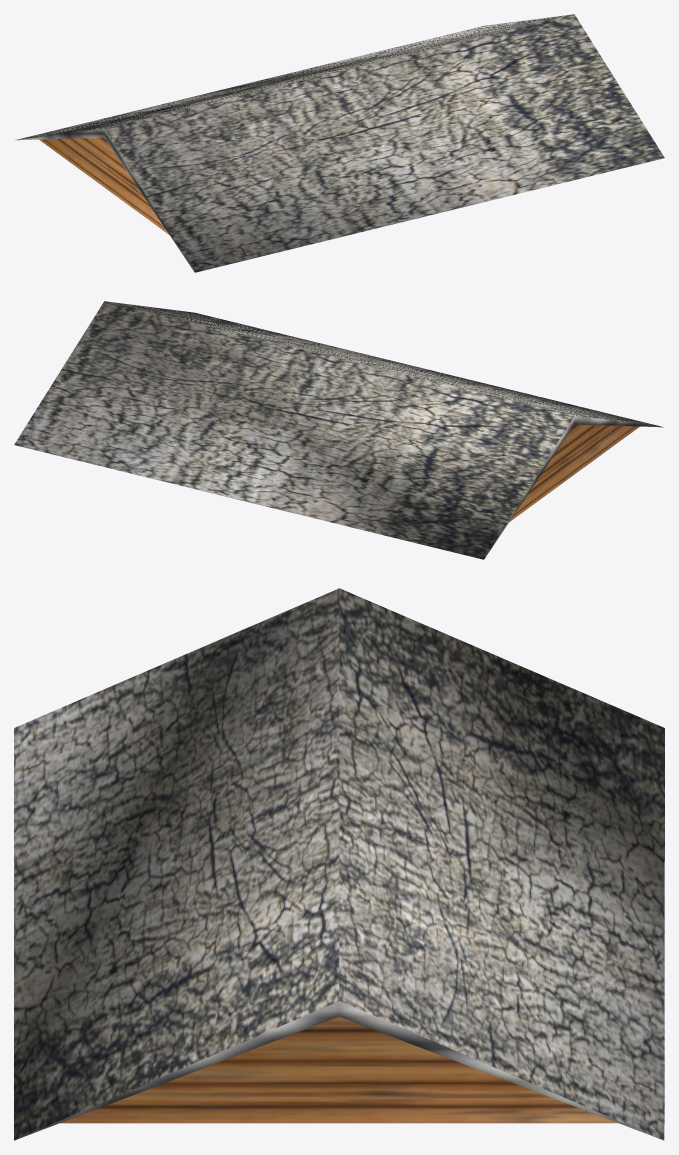
3 views of the same model, one above another, from view 1: azimuth 30°, elevation 25°; view 2: azimuth 150°, elevation 25°; view 3: azimuth 270°, elevation 25° (orthographic). The views are drawn at different scales.
Visible parts, largest first — view 1: 0roof_Cube.003; view 2: 0roof_Cube.003; view 3: 0roof_Cube.003.
Part boxes in pixels (left/top/right/bottom): 0roof_Cube.003: left=15, top=14, right=664, bottom=272; 0roof_Cube.003: left=14, top=301, right=663, bottom=559; 0roof_Cube.003: left=14, top=588, right=664, bottom=1140.
Bounding box in the file's own units: 12 × 1.9 × 8.
